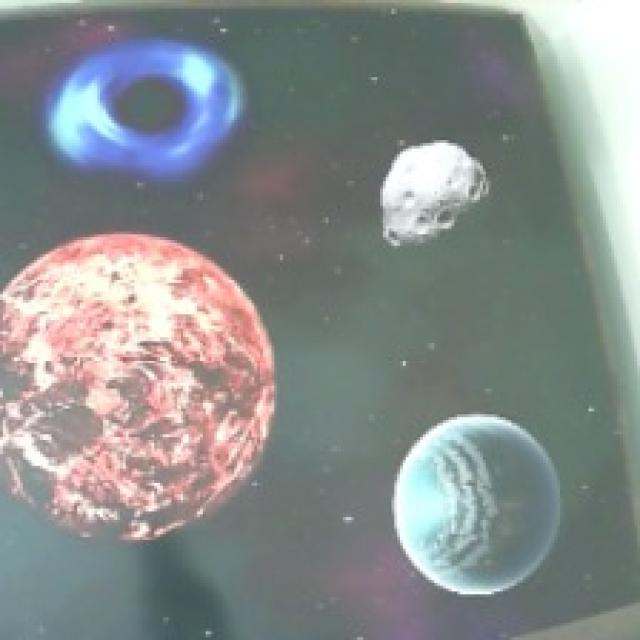Asteroid: (377, 142, 487, 251)
Black Hole: (48, 45, 240, 177)
Earth: (388, 410, 558, 598)
Sun: (0, 230, 277, 546)
